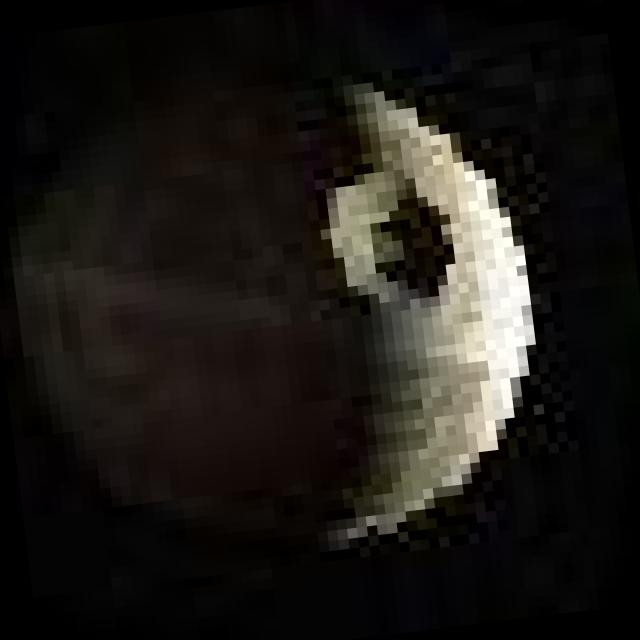Death Star: (0, 57, 555, 594)
